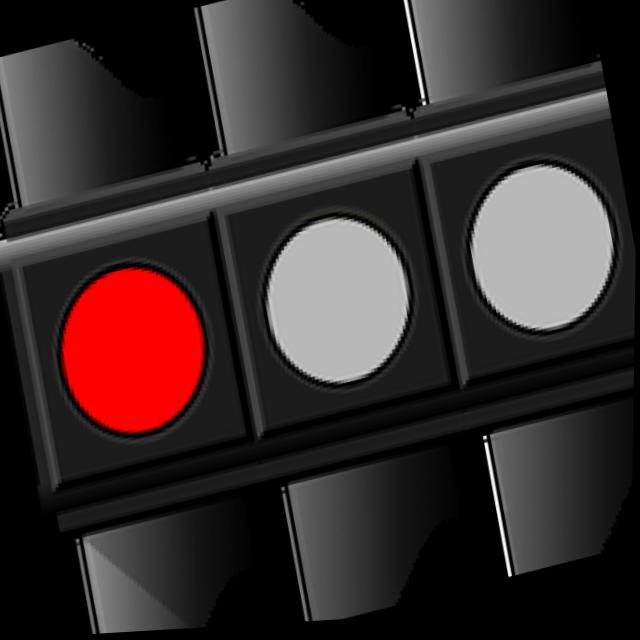red_light: (15, 208, 255, 478)
